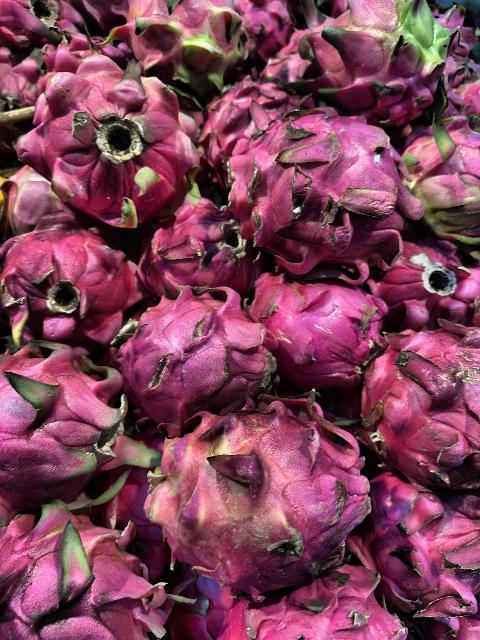buah-naga-belum-matang: (153, 416, 386, 586), (300, 1, 450, 118), (118, 0, 244, 94), (408, 132, 480, 256)
buah-naga-matang: (238, 104, 424, 280), (30, 60, 196, 228), (0, 336, 146, 496), (1, 498, 162, 640), (0, 215, 158, 353), (117, 279, 273, 417), (364, 314, 480, 484), (370, 463, 480, 624), (256, 274, 384, 384), (146, 209, 258, 293)
